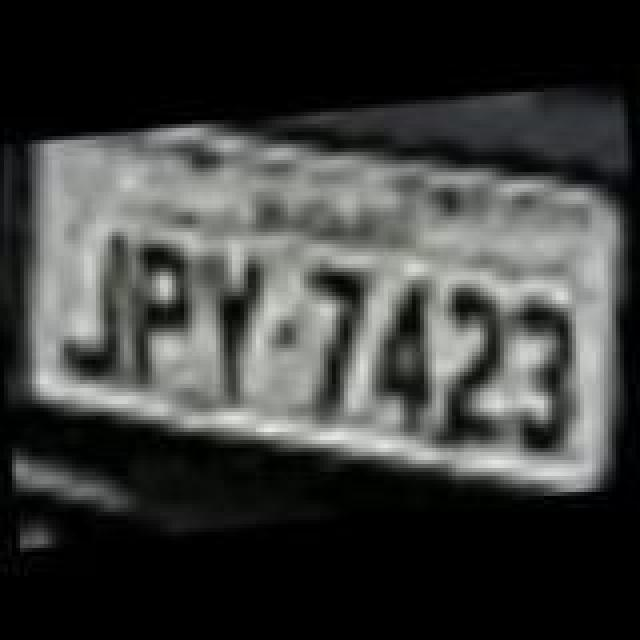2: (424, 278, 520, 450)
3: (484, 298, 584, 466)
4: (358, 272, 450, 444)
7: (288, 254, 384, 426)
J: (40, 230, 136, 382)
P: (114, 230, 206, 386)
Y: (198, 242, 282, 398)
